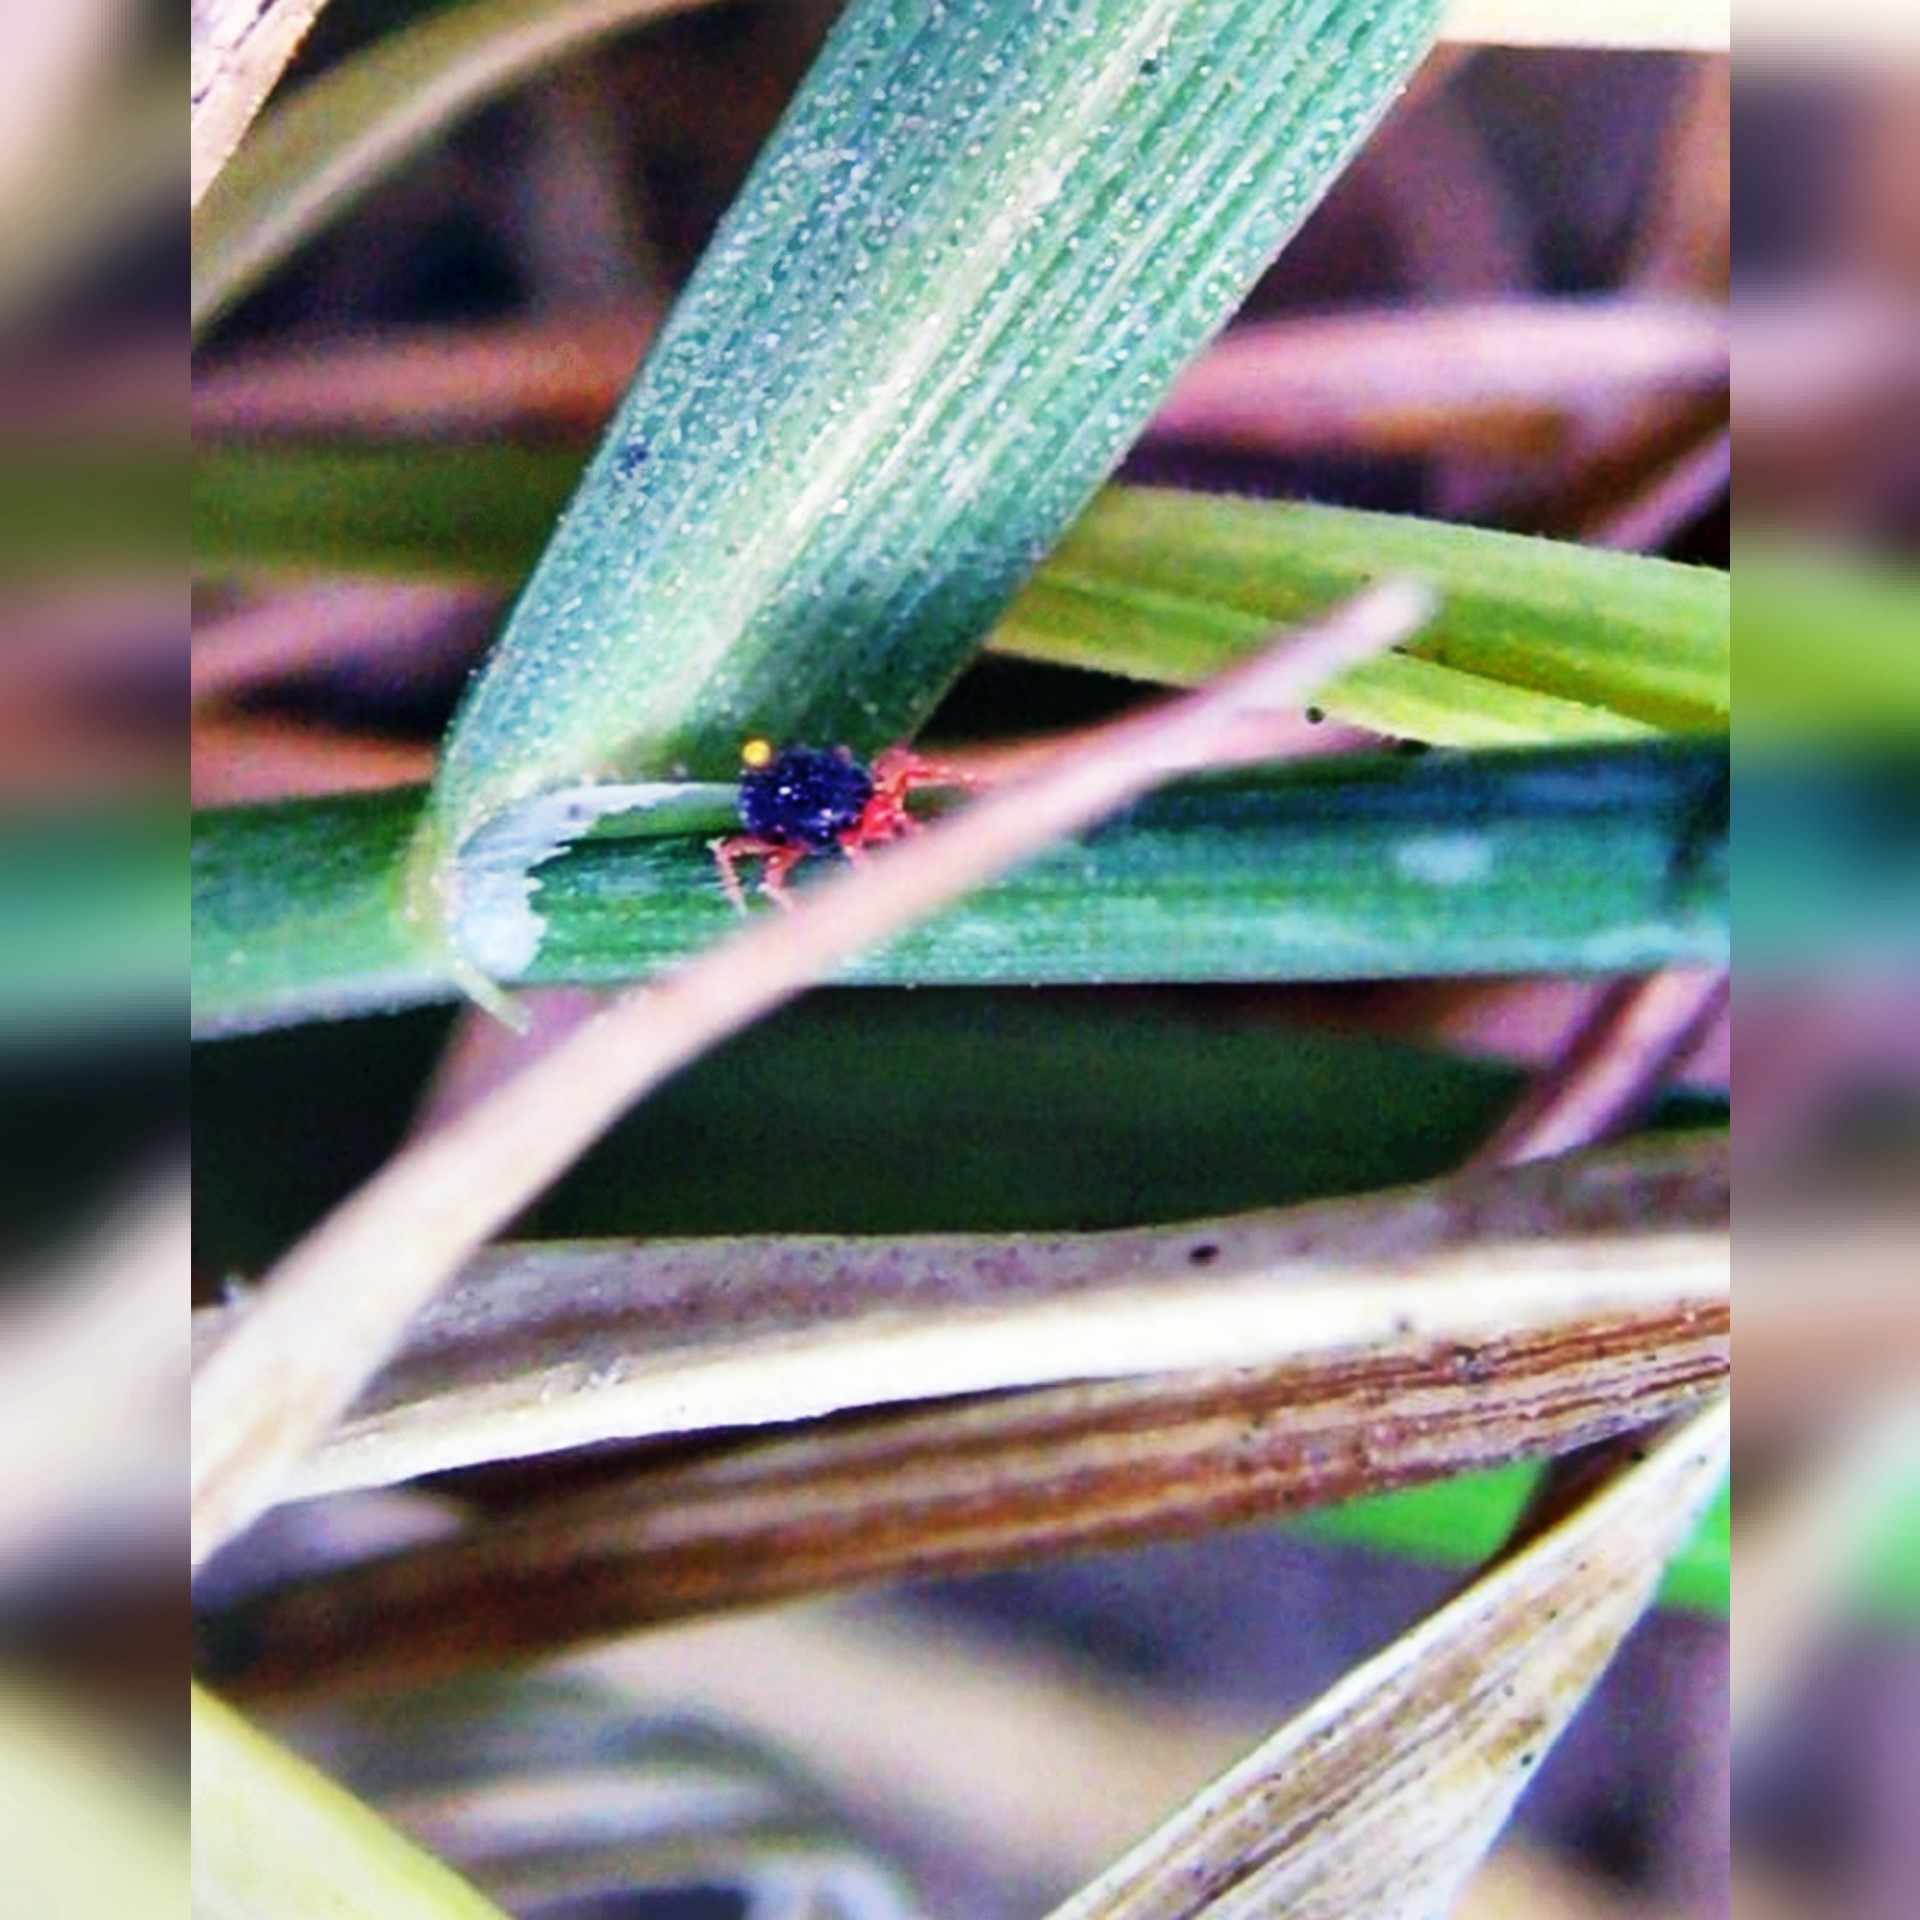Wheat Red Spider: (703, 695, 985, 941)
